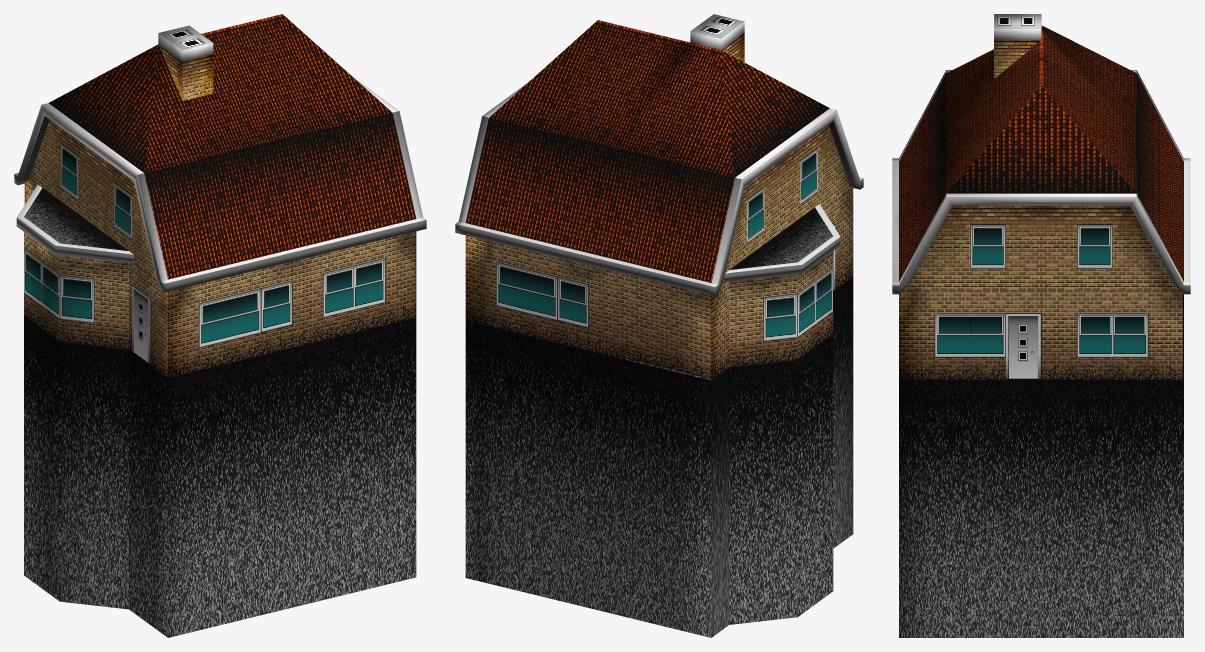
The model's file is zadeldak_mod3_1b.fbx.
3 renders of one model, left to right at view 1: azimuth 30°, elevation 25°; view 2: azimuth 150°, elevation 25°; view 3: azimuth 270°, elevation 25°, orthographic.
Visible parts, largest first — view 1: zadeldak_mod3_1b; view 2: zadeldak_mod3_1b; view 3: zadeldak_mod3_1b.
Boxes of the visible parts, x1=… form: zadeldak_mod3_1b: x1=14, y1=14, x2=426, y2=637; zadeldak_mod3_1b: x1=455, y1=14, x2=863, y2=637; zadeldak_mod3_1b: x1=892, y1=14, x2=1190, y2=637.
Bounding box in the file's own units: 1105 × 1861 × 943.
